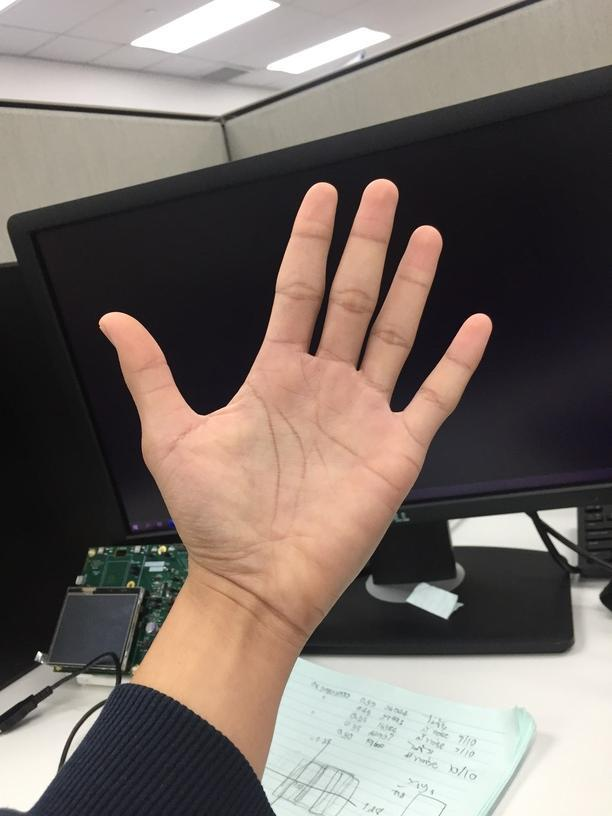hand: (96, 176, 494, 626)
